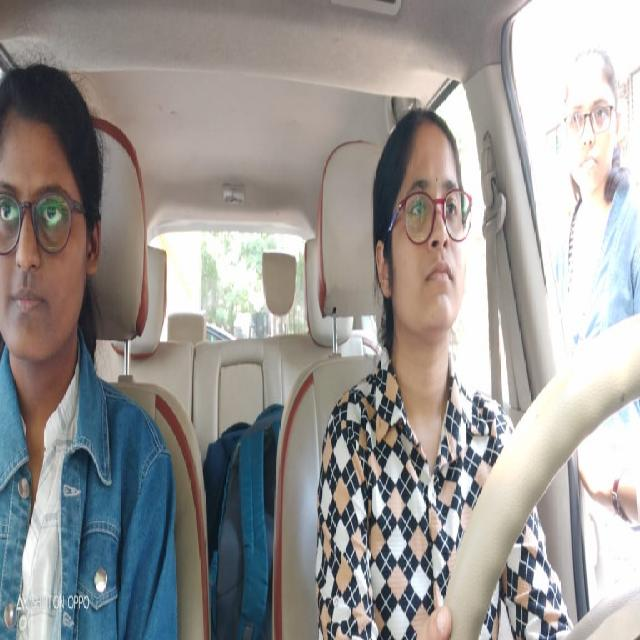person: (0, 65, 111, 366), (368, 109, 476, 345)
